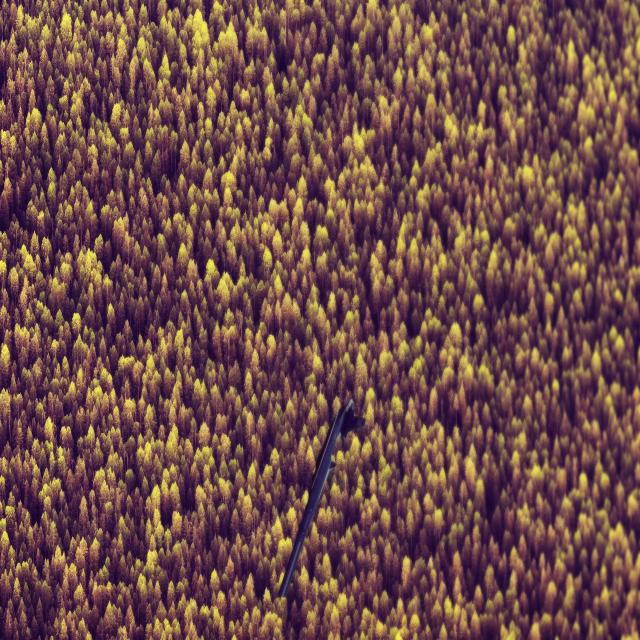airplane: (276, 397, 366, 598)
